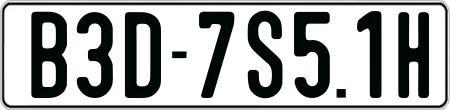1: (355, 9, 380, 96)
3: (76, 10, 117, 100)
5: (291, 12, 331, 102)
7: (197, 11, 232, 100)
B: (30, 12, 69, 103)
D: (124, 10, 161, 99)
H: (397, 9, 429, 99)
S: (247, 9, 284, 99)
